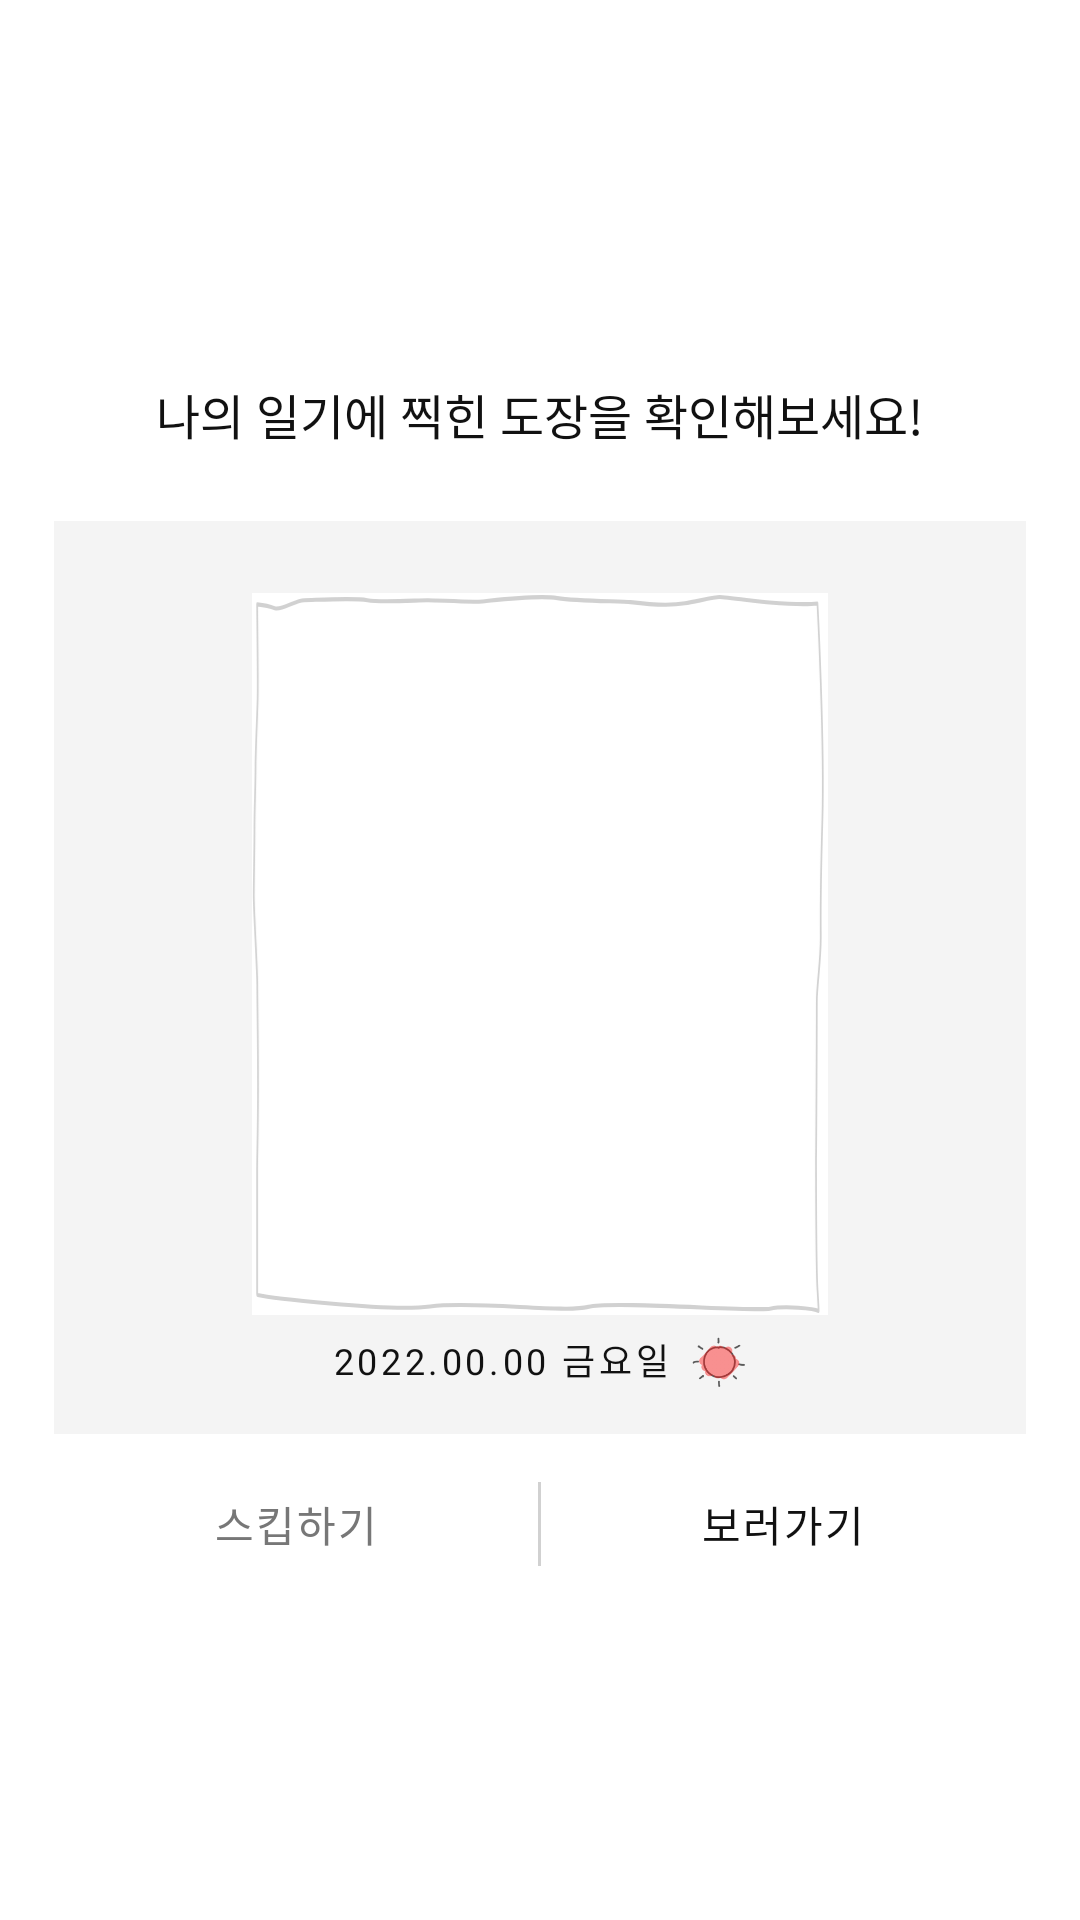

Screen size 1080×1920. Icon name, then its center in pixels as (x=x, y=y):
sunny: (x=718, y=1362)
